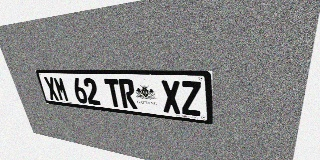2: (82, 78, 101, 105)
6: (71, 78, 89, 104)
M: (53, 77, 70, 102)
R: (118, 79, 138, 109)
T: (104, 78, 123, 108)
X: (160, 80, 181, 114), (43, 77, 60, 101)
Z: (180, 81, 202, 116)
